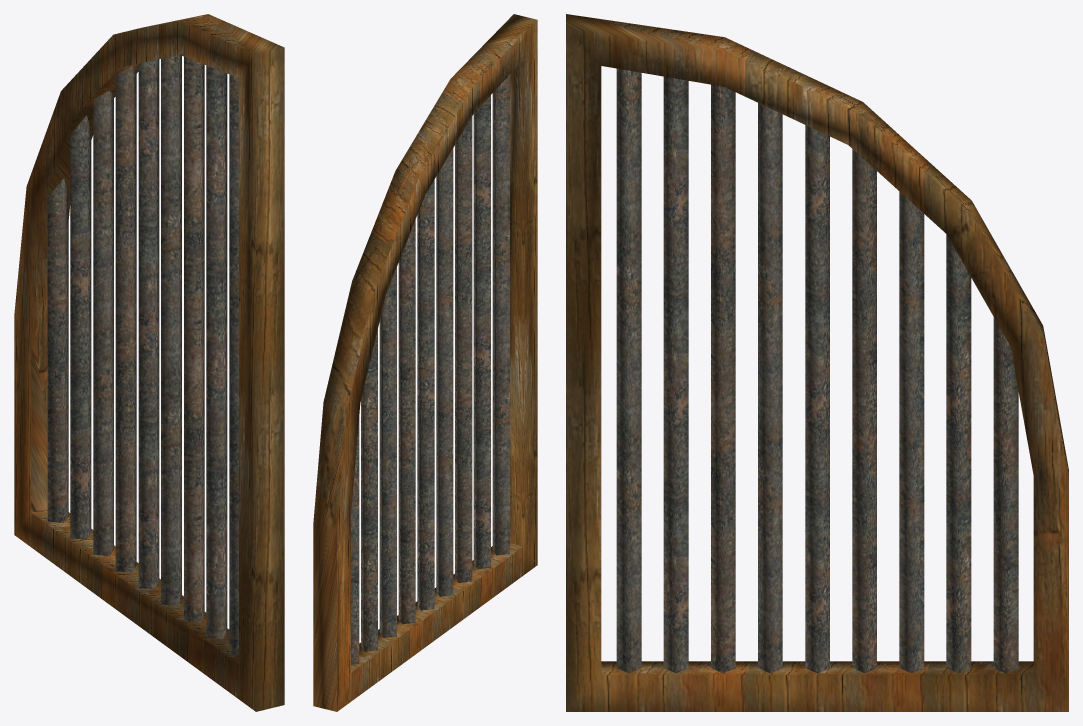
File: M11_Gate01.glb
3 renders of one model, left to right at view 1: azimuth 30°, elevation 25°; view 2: azimuth 150°, elevation 25°; view 3: azimuth 270°, elevation 25°, orthographic. The views are drawn at different scales.
Visible parts, largest first — view 1: M11_GATE01; view 2: M11_GATE01; view 3: M11_GATE01.
Boxes of the visible parts, x1,y1,x2,y2 form: M11_GATE01: [14, 14, 284, 711]; M11_GATE01: [313, 14, 537, 711]; M11_GATE01: [566, 14, 1068, 711].
Bounding box in the file's own units: 0.137 × 3 × 2.
2 materials, 2 textured.
